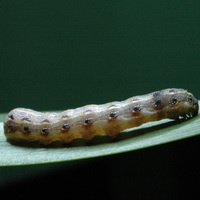insect: (4, 88, 198, 146)
